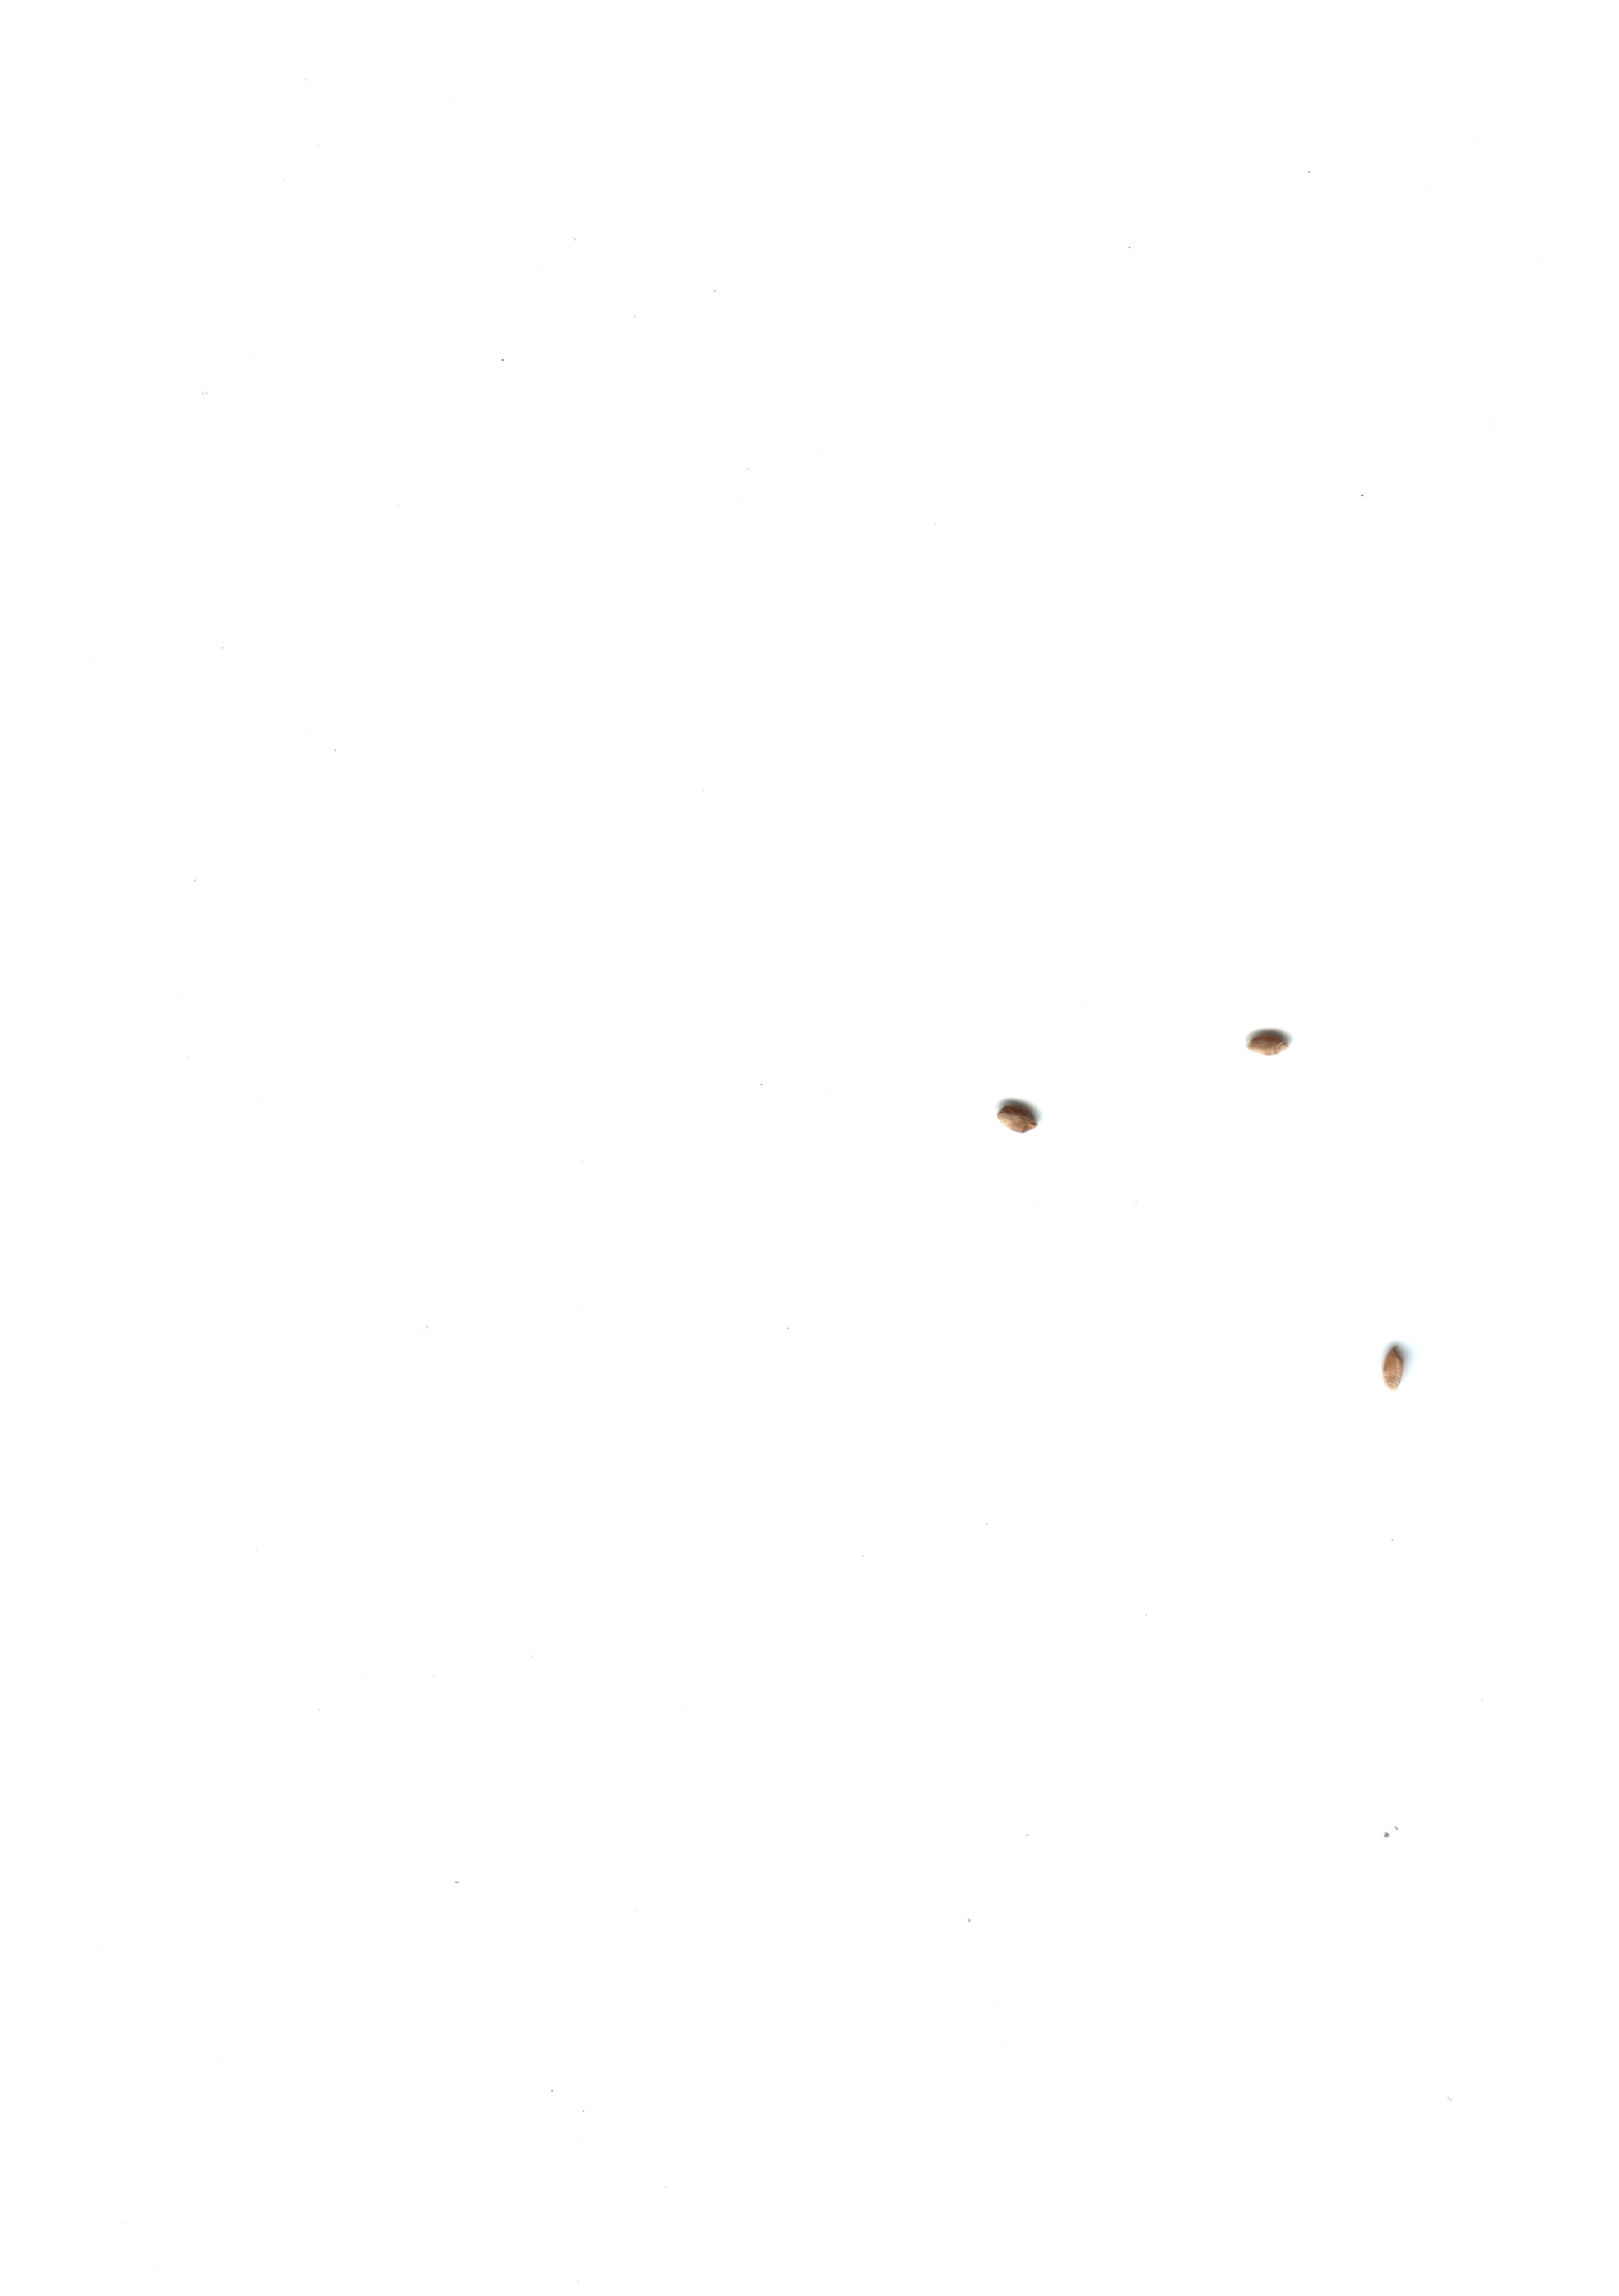grains_2_5mm: (1358, 1322, 1440, 1411), (1227, 1001, 1309, 1090), (983, 1066, 1064, 1155)
